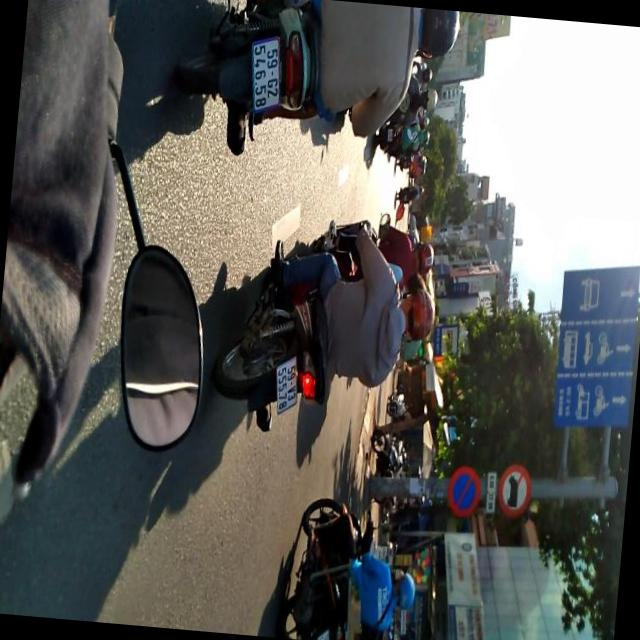P-131a: (440, 465, 482, 515)
R-403: (545, 258, 640, 432)
